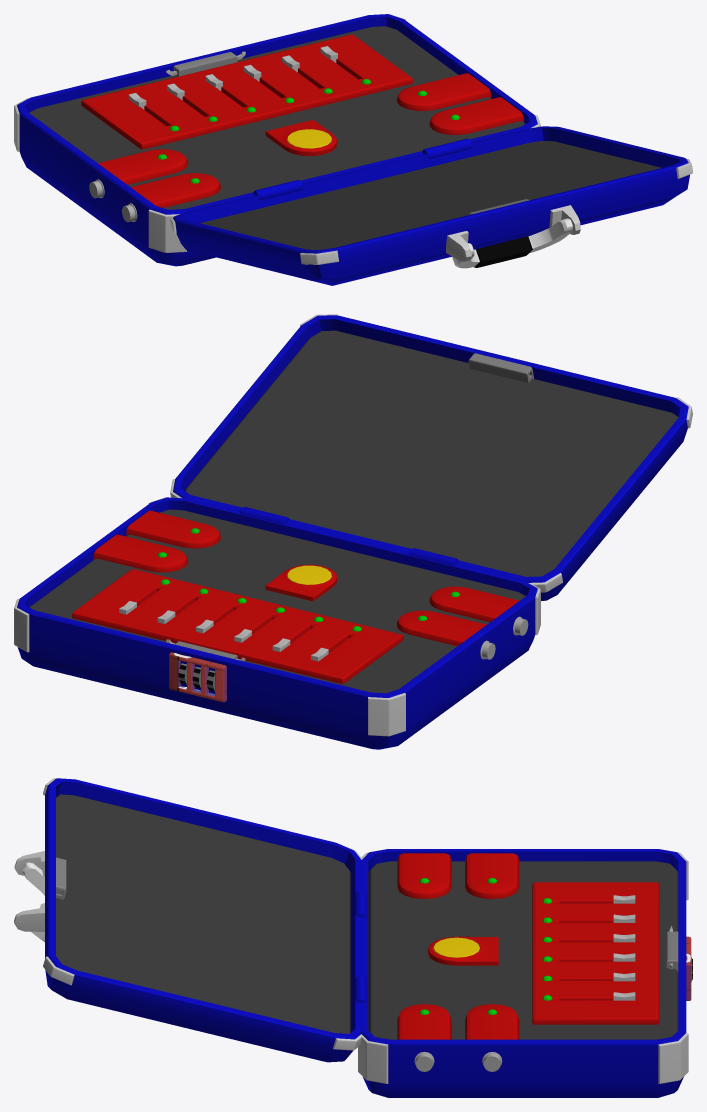
Rendered from suitcase_low.fbx.
3 renders of one model, top to bottom at view 1: azimuth 30°, elevation 25°; view 2: azimuth 150°, elevation 25°; view 3: azimuth 270°, elevation 25°, orthographic. The views are drawn at different scales.
Parts seen in each view (by area): view 1: polySurface7097, polySurface7015, polySurface6984, polySurface7103, polySurface7102; view 2: polySurface7015, polySurface7097, polySurface6984; view 3: polySurface7097, polySurface7015, polySurface6984.
Boxes of the visible parts, x1,y1,x2,y2 form: polySurface7097: (14,14,540,266); polySurface7015: (170,126,692,285); polySurface6984: (287,129,331,148); polySurface7103: (422,138,472,158); polySurface7102: (253,180,302,200); polySurface7015: (170,314,692,600); polySurface7097: (14,497,540,749); polySurface6984: (287,565,331,584); polySurface7097: (358,849,691,1097); polySurface7015: (14,778,361,1062); polySurface6984: (433,937,479,957).
Size of the model in its own units: 471 by 157 by 671.
